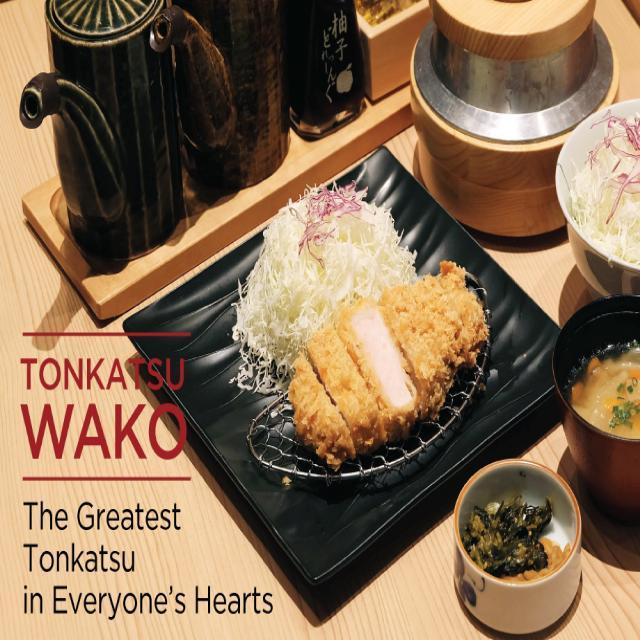cac loai rau cu: (241, 182, 414, 361), (563, 110, 640, 247), (465, 487, 560, 584)
thit heo: (288, 265, 496, 466)
thit heo chien xu tonkatsu: (235, 103, 640, 615)
